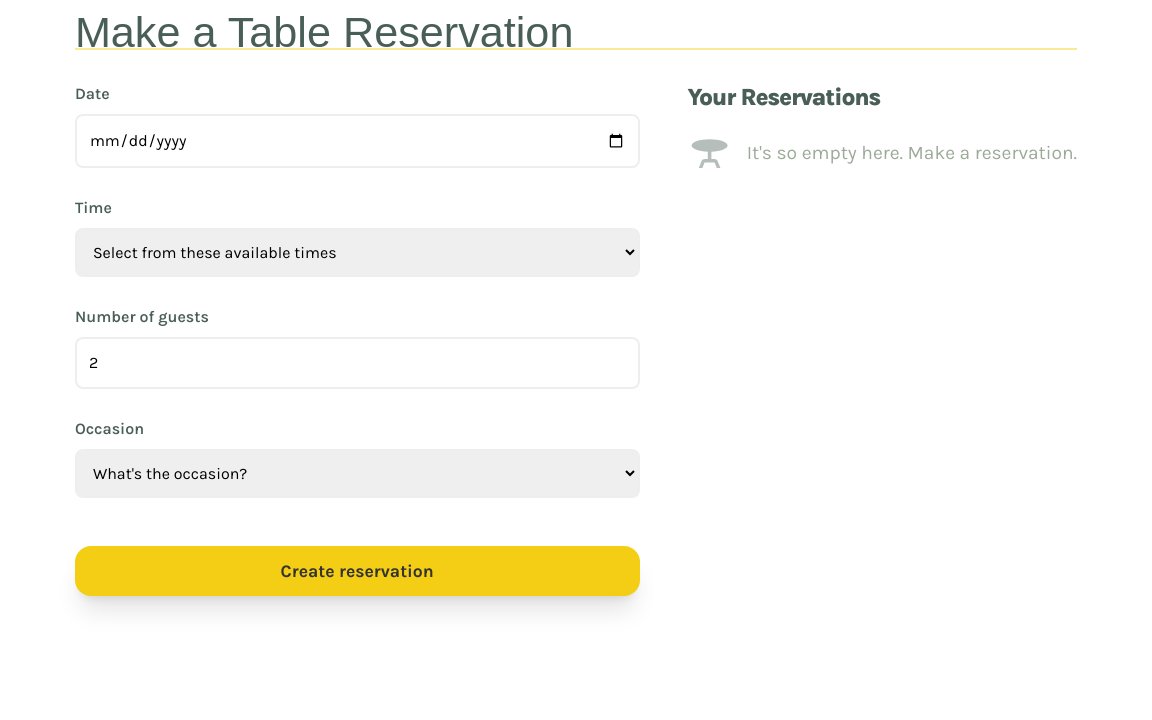
Date Field Validation › should throw an error if date input is empty and user tries to submit form
// get the create reservation button and click it
Click the button "Create reservation".
click(357, 571)  # box [75, 546, 640, 596]
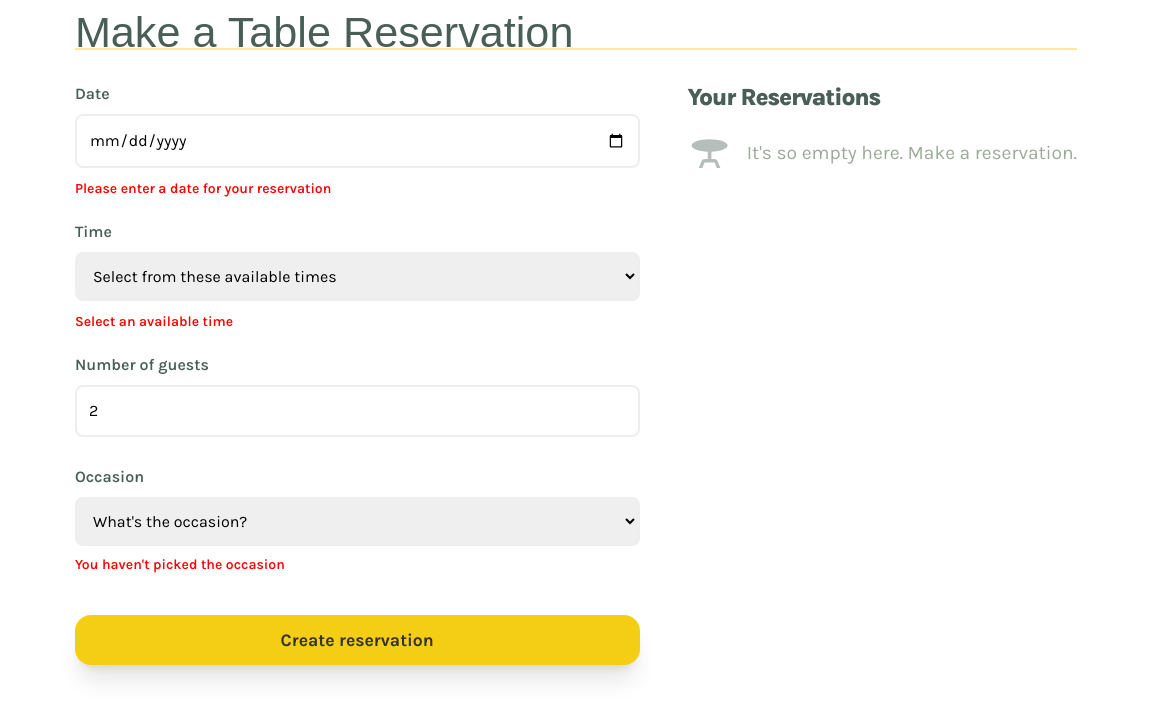
Expected: the text "Please enter a date for your reservation" is shown, [75, 180, 331, 197]
